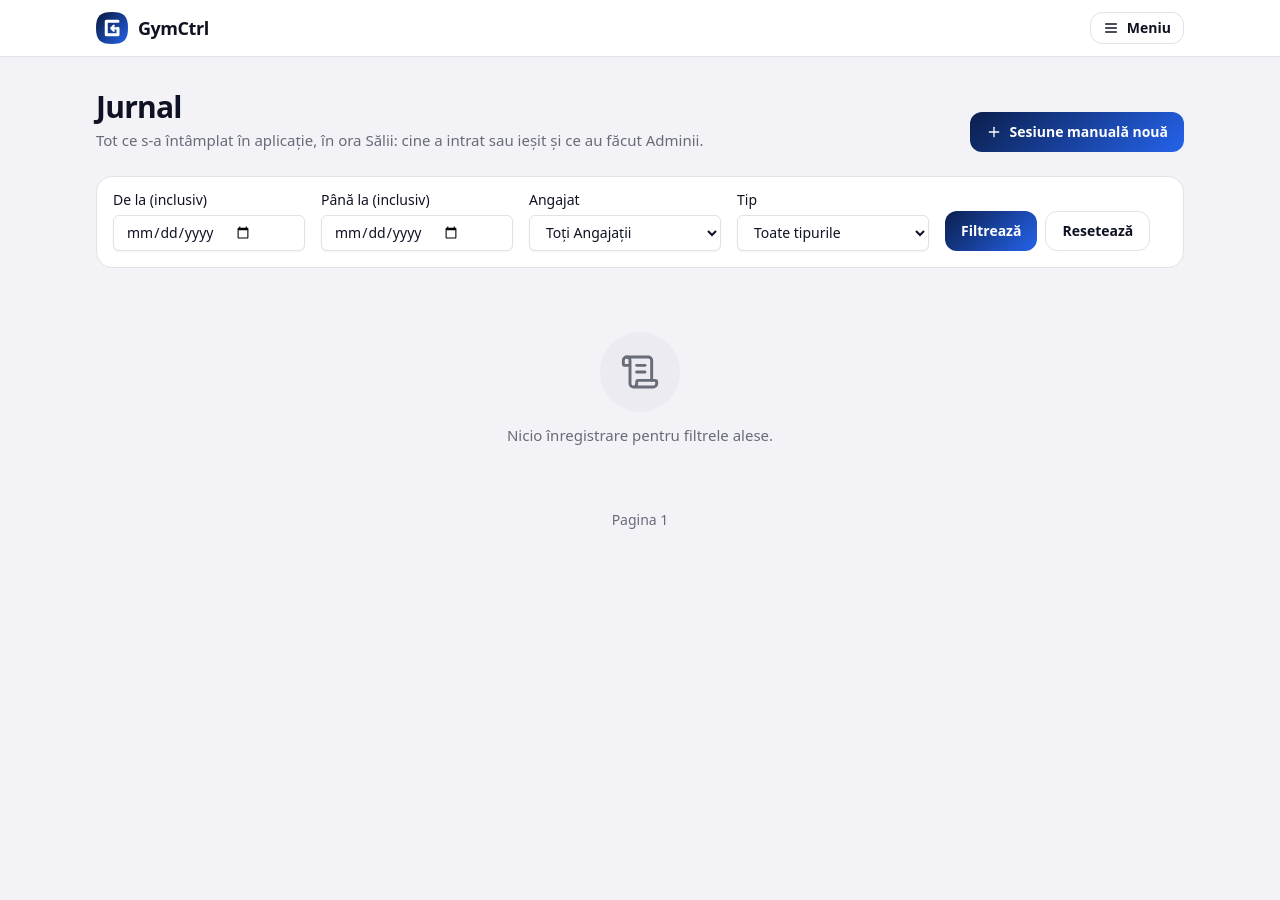
Test: Sesiuni manuale › adaugă din Jurnal cu motiv, trimite orele locale, confirmă cu toast și arată rândul marcat cu autor
The image size is (1280, 900).
Click the button "Sesiune manuală nouă" at (1077, 132), box [970, 112, 1184, 152]
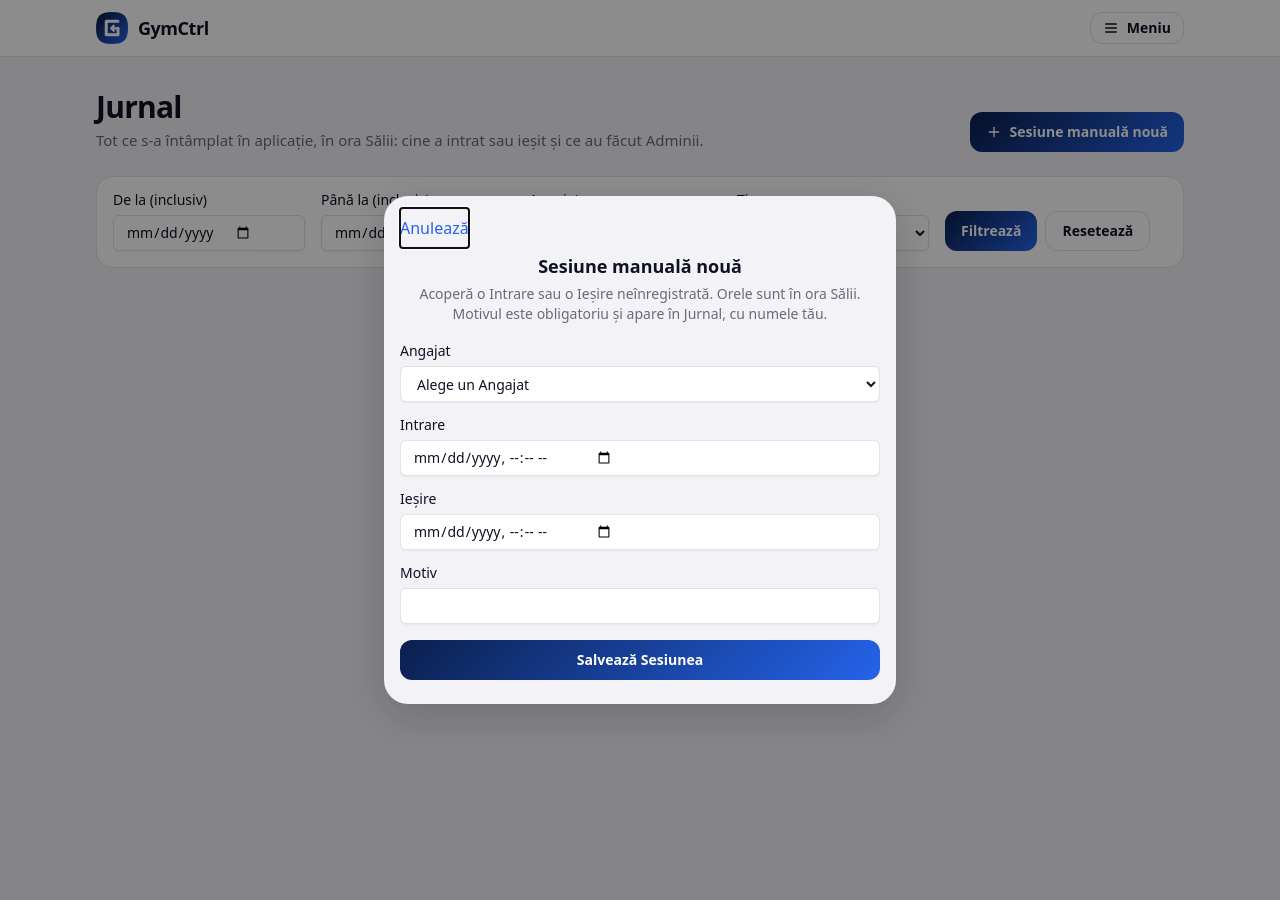
Select "Ana Pop" in the dropdown labelled "Angajat" at (640, 384), box [400, 366, 880, 402]
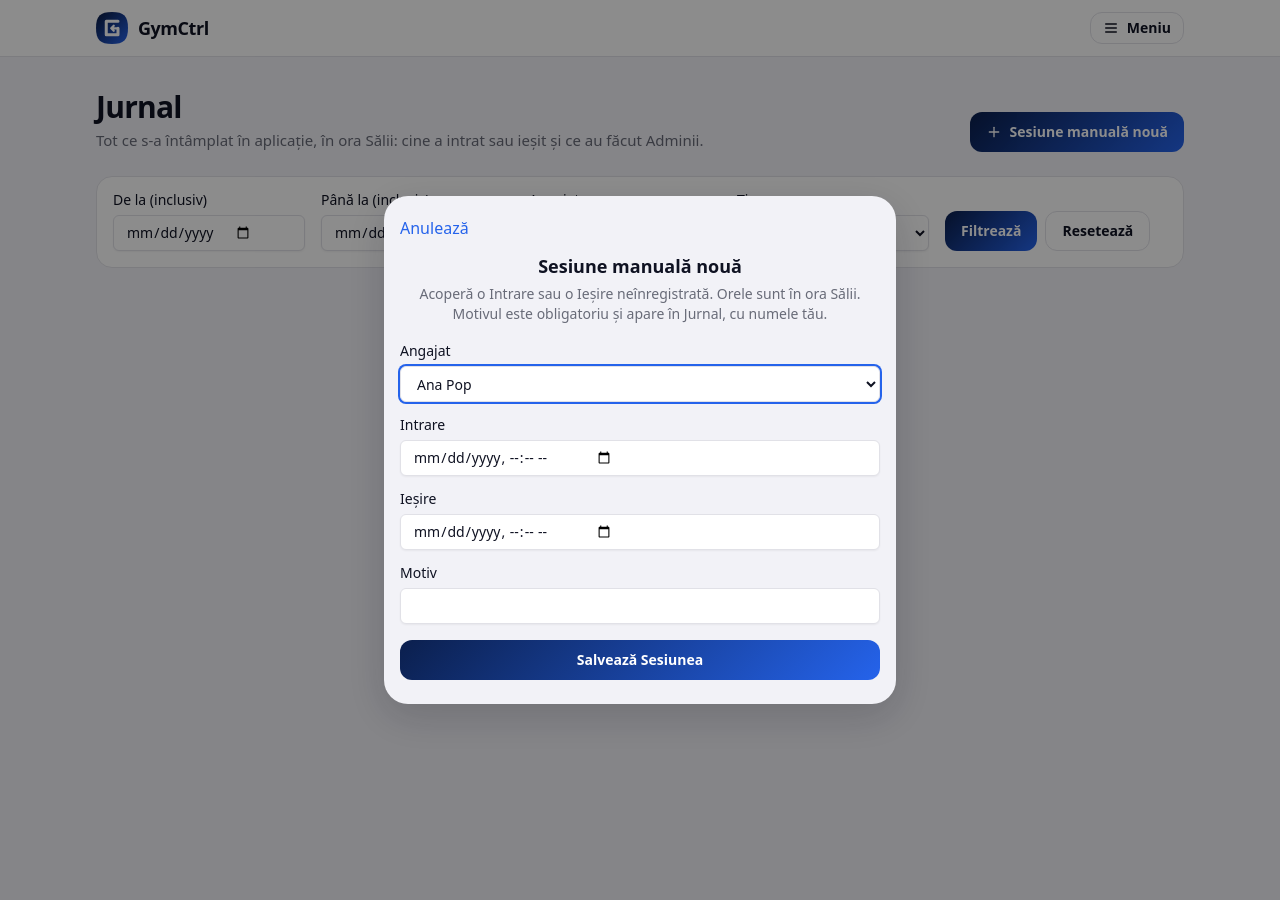
Type "2026-01-05T08:00" into the field labelled "Intrare" at (640, 458), box [400, 440, 880, 476]
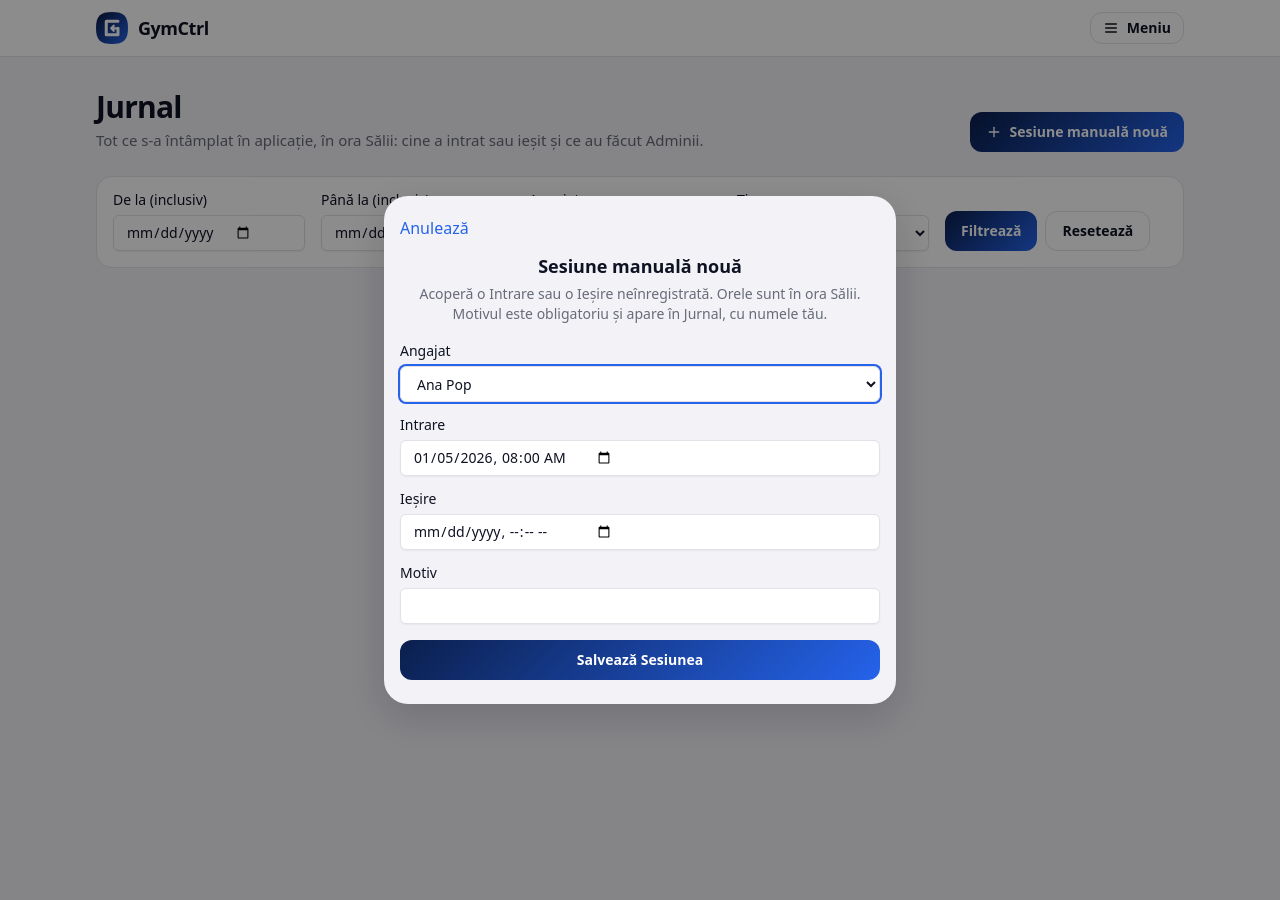
Type "2026-01-05T09:30" into the field labelled "Ieșire" at (640, 532), box [400, 514, 880, 550]
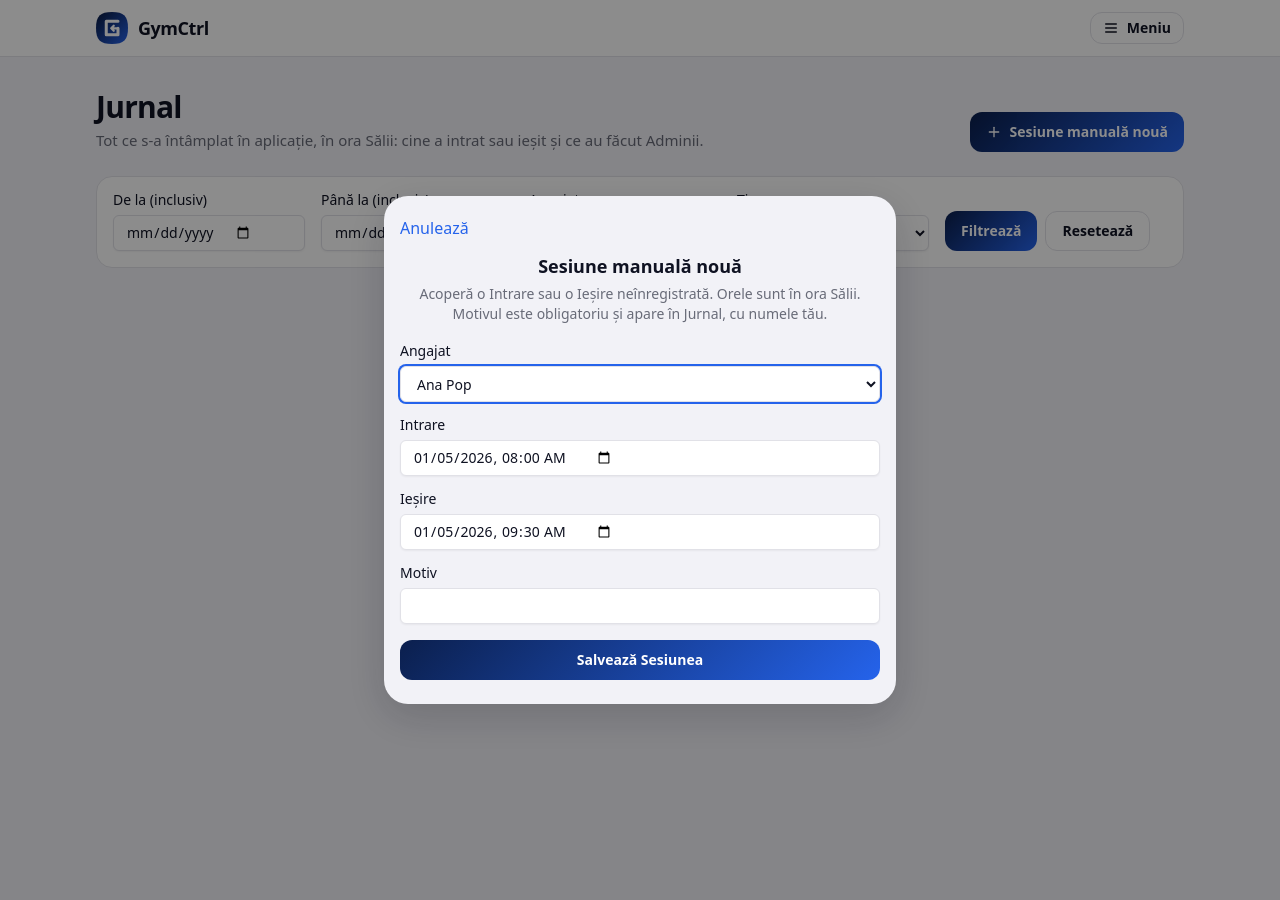
Type "Telefon stricat" into the field labelled "Motiv" at (640, 606), box [400, 588, 880, 624]
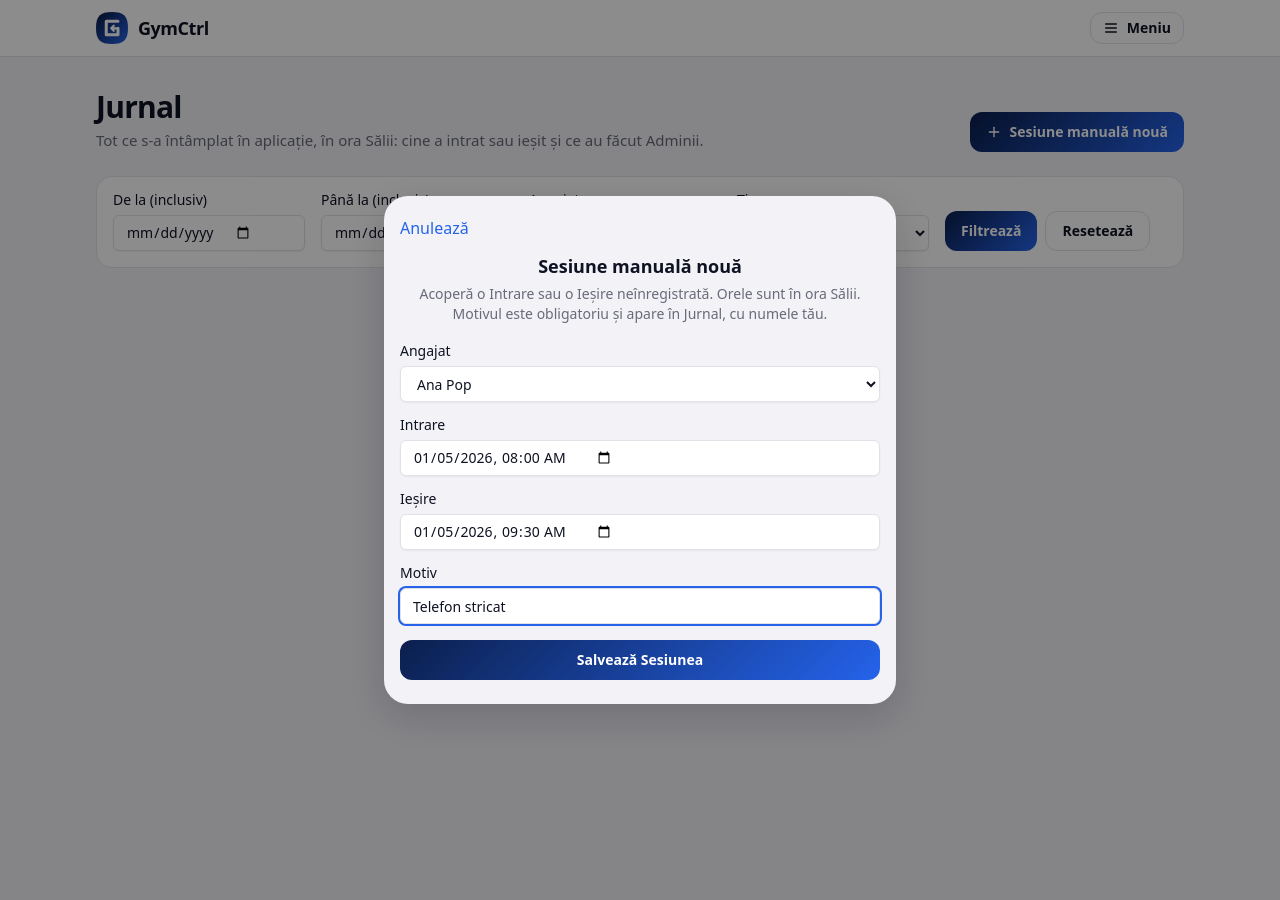
Click the button "Salvează Sesiunea" at (640, 660), box [400, 640, 880, 680]
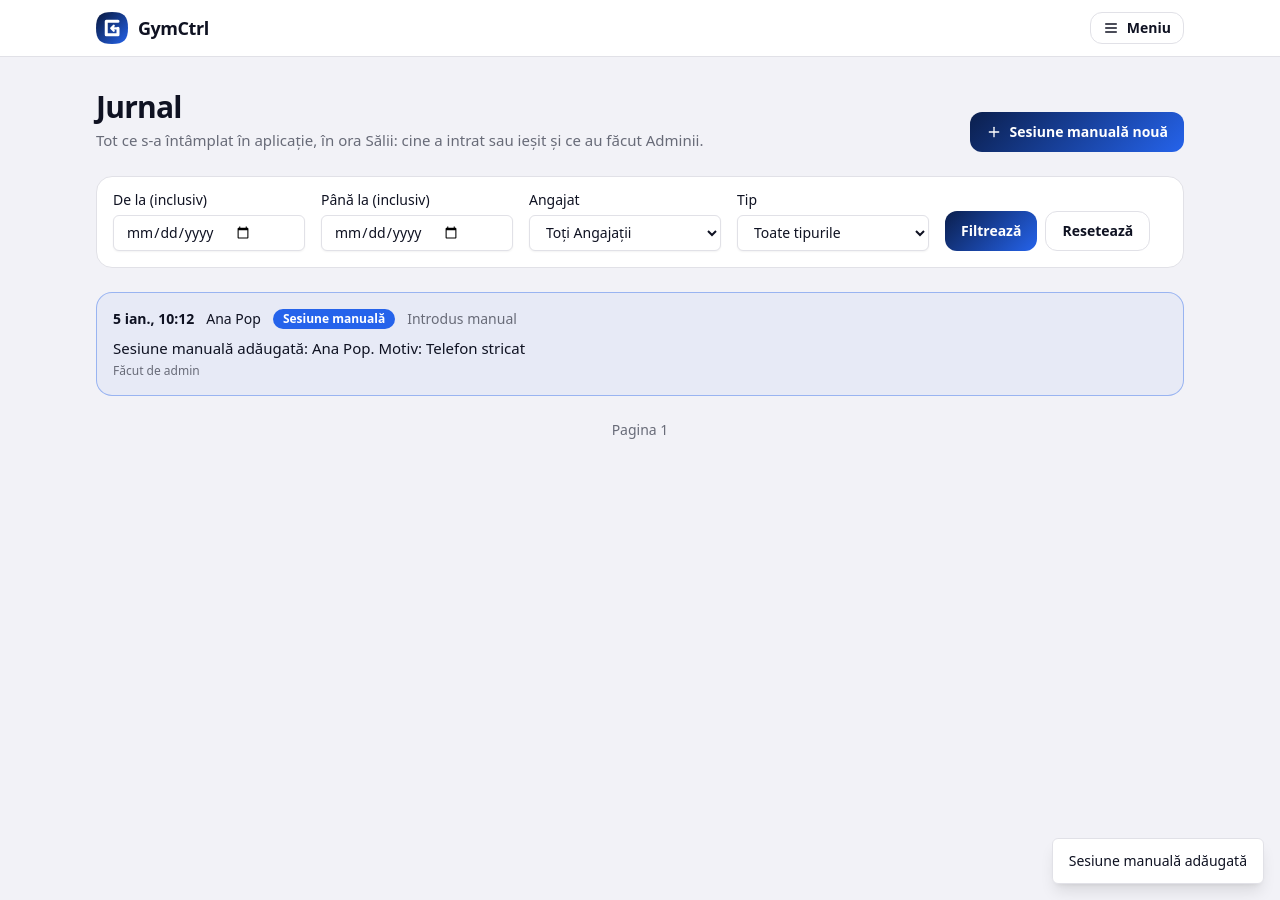
Now the text "Sesiune manuală adăugată" is shown, box [1052, 838, 1264, 884]
Now the dialog is gone
Now the text "Făcut de admin" is shown, box [113, 362, 200, 379]
